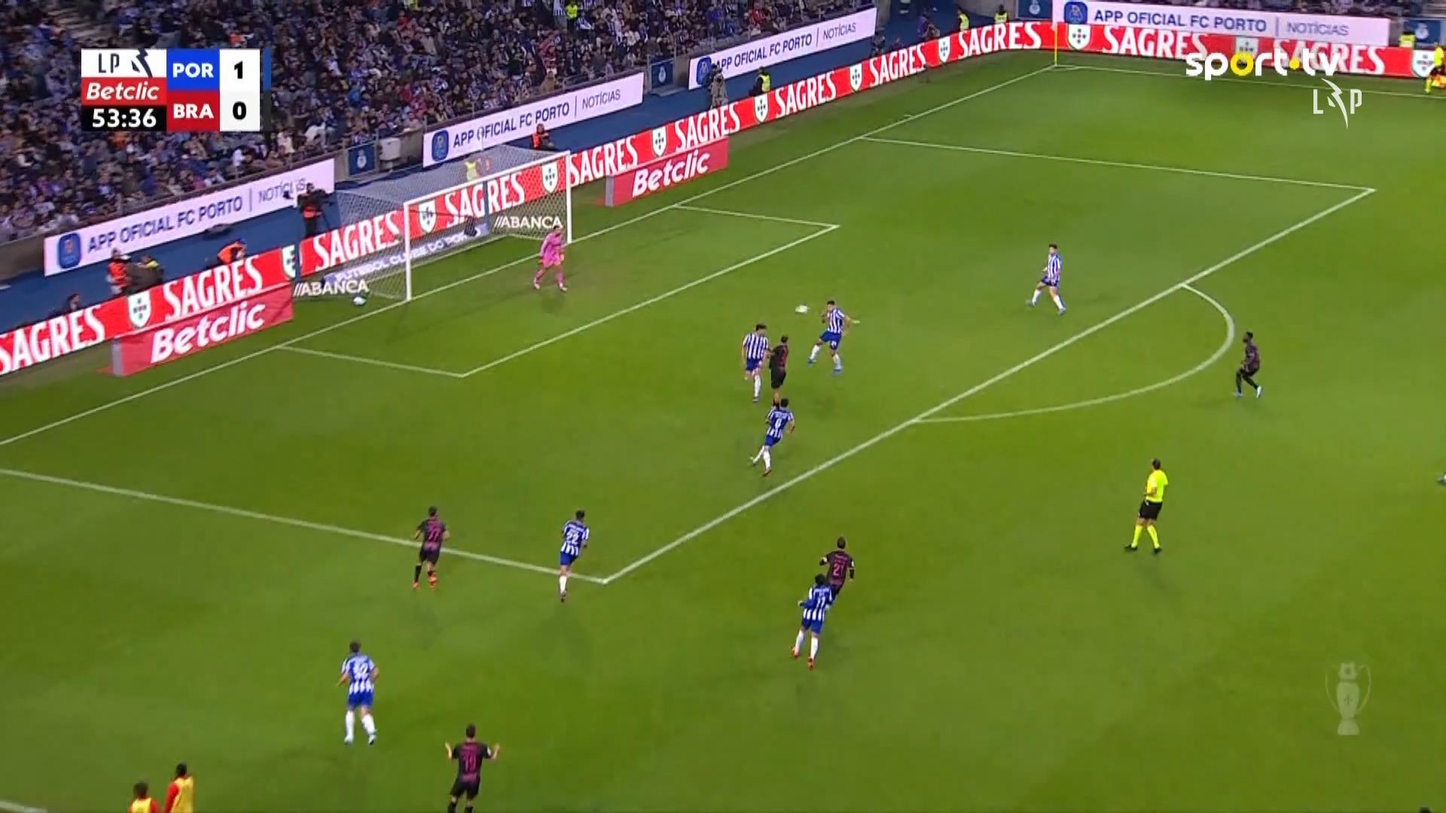ball: (795, 304, 808, 313)
goalkeeper: (532, 221, 568, 292)
player: (443, 723, 500, 811), (335, 640, 380, 745), (790, 572, 834, 670), (748, 396, 795, 477), (410, 505, 450, 591), (807, 299, 852, 373), (557, 509, 590, 602), (1025, 242, 1066, 315), (819, 536, 856, 605), (740, 322, 770, 403), (1233, 330, 1263, 398), (766, 333, 789, 407)
referee: (1123, 457, 1168, 554), (163, 762, 195, 811), (1422, 44, 1446, 94), (127, 780, 160, 811)
